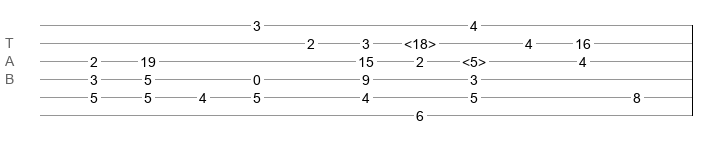0: (253, 72, 261, 82)
15: (358, 54, 374, 64)
16: (575, 36, 591, 46)
19: (140, 54, 156, 64)
2: (90, 54, 98, 64), (307, 36, 315, 46), (416, 54, 424, 64)
3: (90, 72, 98, 82), (253, 18, 261, 28), (362, 36, 370, 46), (470, 72, 478, 82)
4: (199, 90, 207, 100), (362, 90, 370, 100), (470, 18, 478, 28), (525, 36, 533, 46), (579, 54, 587, 64)
5: (90, 90, 98, 100), (144, 90, 152, 100), (144, 72, 152, 82), (253, 90, 261, 100), (470, 90, 478, 100)
6: (416, 108, 424, 118)
8: (633, 90, 641, 100)
9: (362, 72, 370, 82)
harmonic: (404, 36, 436, 46), (462, 54, 486, 64)
